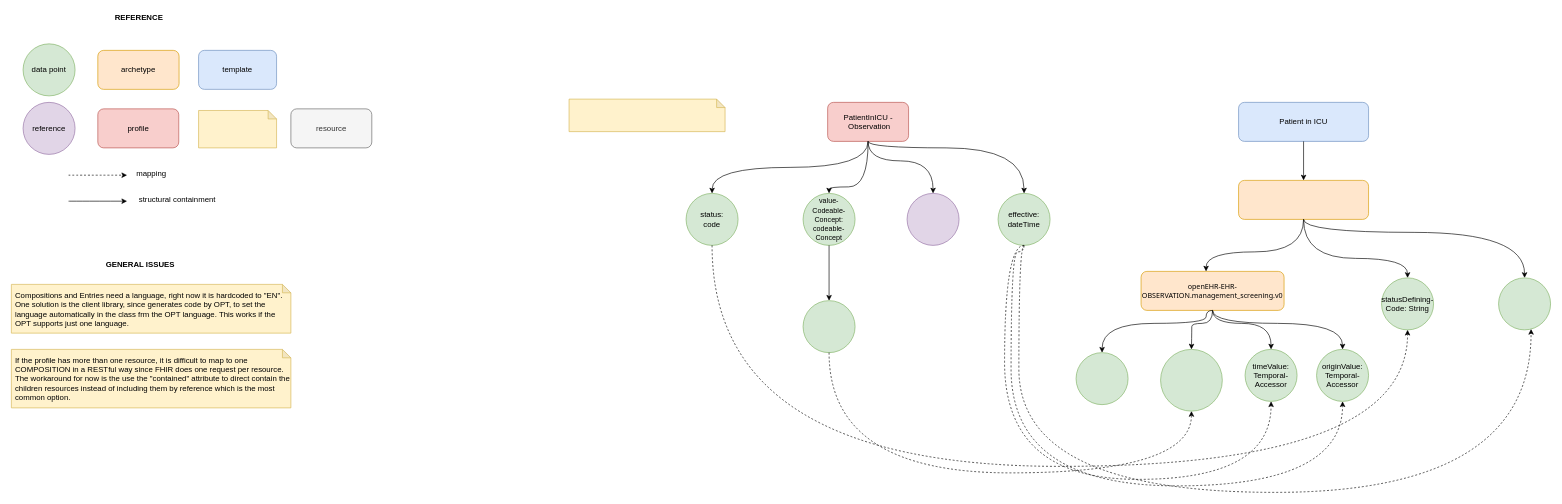
Image size: 1562x504. Some labels were removed from this diagram. Here are the shapes that lost their labels. From the top down, the centre of each, then its label:
At point (237, 129): "note".
At point (646, 115): "https://simplifier.net/forschungsnetzcovid-19/patientinicu".
At point (932, 219): "subject: ref".
At point (1303, 199): "openEHR-EHR-COMPOSITION.report-result.v1".
At point (1524, 303): "start- timeValue: DateTime".
At point (828, 326): "code: code".
At point (1101, 378): "nameDer- Aktivitat- Value: String".
At point (1191, 380): "Wurde Die Aktivitat-Durchgefuhrt-Defining-code: Enum-ValueSet".
